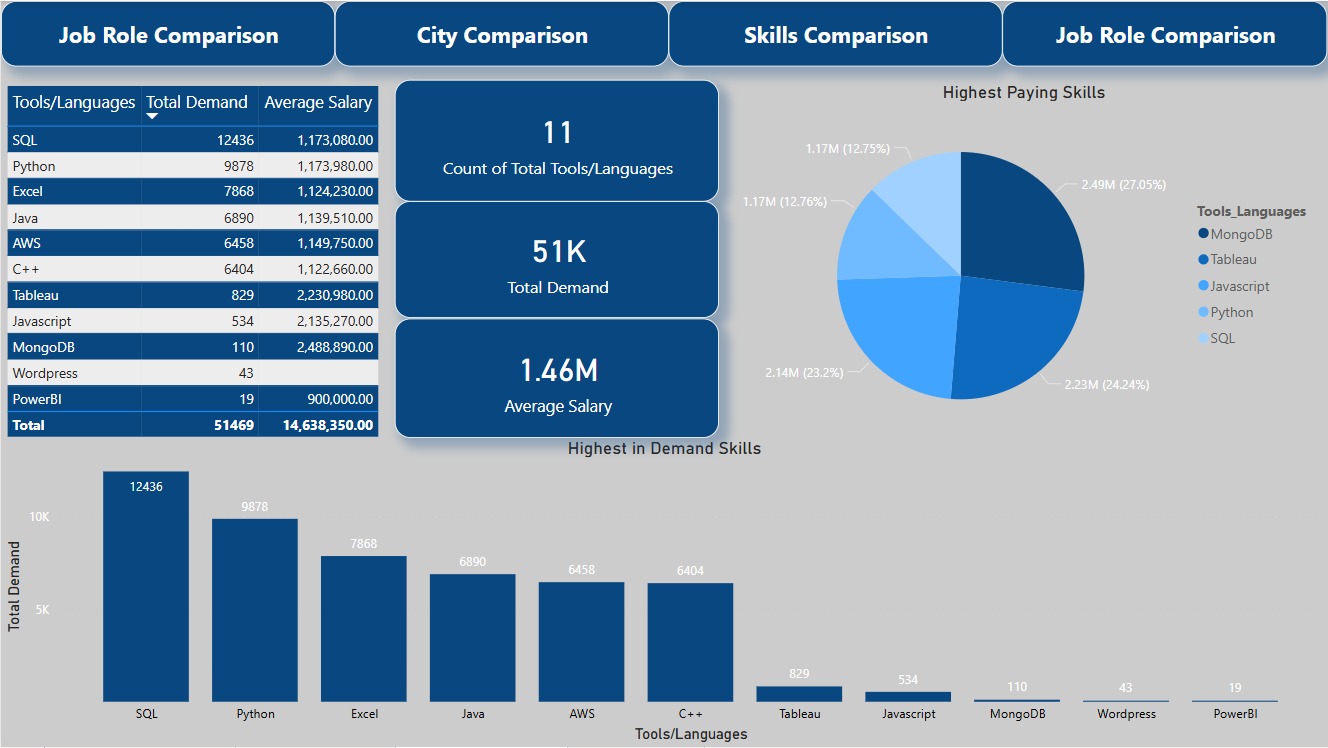

The page's visual inventory and layout, read from the dashboard file:
{"tool":"powerbi","page":{"name":"Skills Comparison","canvas":[1280,720],"ordinal":2},"visuals":[{"type":"actionButton","box":[0,0,322.2,63.1],"z":0},{"type":"actionButton","box":[322.2,0,322.2,63.1],"z":1000},{"type":"actionButton","box":[644.4,0,322.2,63.1],"z":2000},{"type":"actionButton","box":[966.6,0,314,63.1],"z":3000},{"type":"pieChart","title":"Highest Paying Skills","fields":{"Category":["tools_and_languages.Tools_Languages"],"Y":["Sum(tools_and_languages.Avg_Sal)"]},"box":[693.1,76.9,587.4,356.9],"z":4000},{"type":"columnChart","title":"Highest in Demand Skills","fields":{"Category":["tools_and_languages.Tools_Languages"],"Y":["Sum(tools_and_languages.Job_Count)"]},"box":[0,421.4,1280.6,299.2],"z":5000},{"type":"card","title":"Software Engineer","fields":{"Values":["CountNonNull(tools_and_languages.Tools_Languages)"]},"box":[380,76.2,312.5,117.5],"z":6000},{"type":"tableEx","title":"Cities","fields":{"Values":["tools_and_languages.Tools_Languages","Sum(tools_and_languages.Job_Count)","Sum(tools_and_languages.Avg_Sal)"]},"box":[0,76.9,380.2,356.9],"z":7000},{"type":"card","title":"Software Engineer","fields":{"Values":["Sum(tools_and_languages.Job_Count)"]},"box":[380.2,193.5,312.9,112.5],"z":8000},{"type":"card","title":"Software Engineer","fields":{"Values":["Avg(tools_and_languages.Avg_Sal)"]},"box":[380.2,306.1,312.9,115.3],"z":9000}]}

Visuals, with their boxes in screenshot pixels (x1, y1, x2, y2), scaled from the page's 1280x720 canvas onto the 1328x748 screenshot:
actionButton: bbox=(0, 0, 334, 66)
actionButton: bbox=(334, 0, 669, 66)
actionButton: bbox=(669, 0, 1003, 66)
actionButton: bbox=(1003, 0, 1327, 66)
"Highest Paying Skills" pieChart: bbox=(719, 80, 1327, 451)
"Highest in Demand Skills" columnChart: bbox=(0, 438, 1327, 747)
"Software Engineer" card: bbox=(394, 79, 718, 201)
"Cities" tableEx: bbox=(0, 80, 394, 451)
"Software Engineer" card: bbox=(394, 201, 719, 318)
"Software Engineer" card: bbox=(394, 318, 719, 438)
